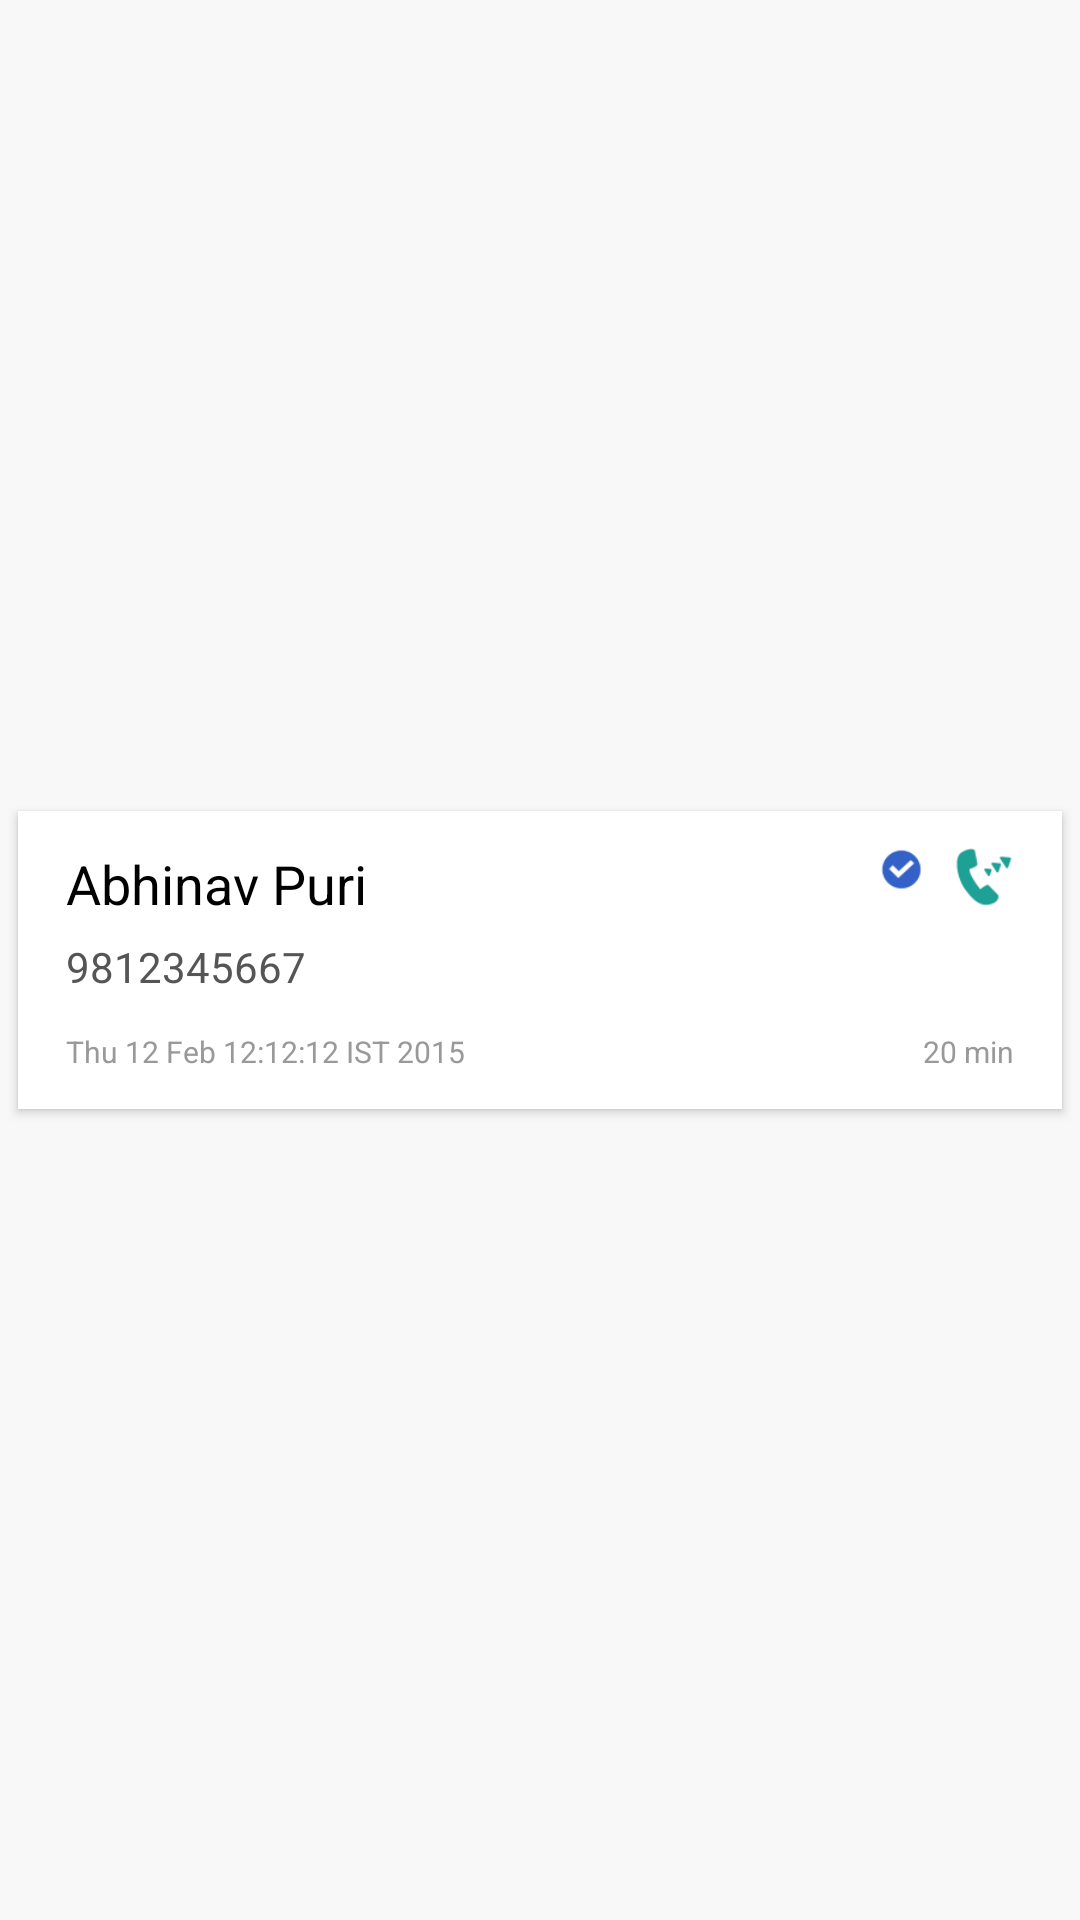

Where icons sit on this 1080 x 1920 app screen, as (x1, y1, x2, y2):
outgoing call: (956, 848, 1012, 906)
saved tick: (882, 850, 921, 889)
